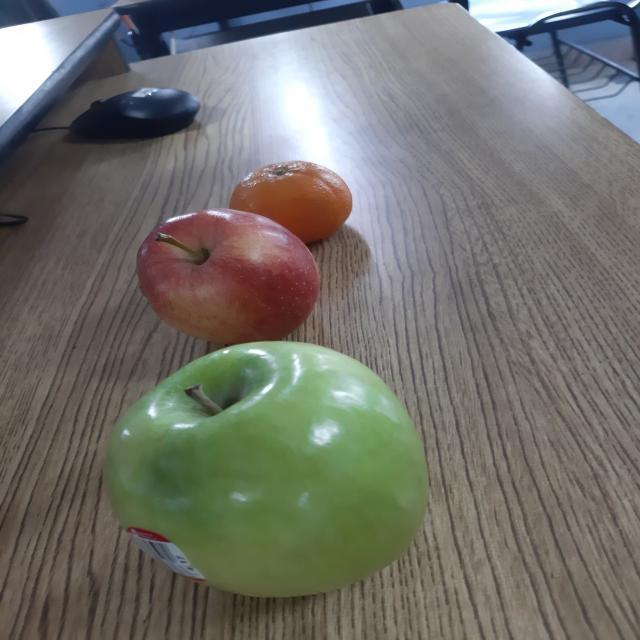Apel Gala: (134, 207, 323, 341)
Apel Granny Smith: (102, 340, 434, 599)
Jeruk Mandarin: (229, 160, 356, 248)
